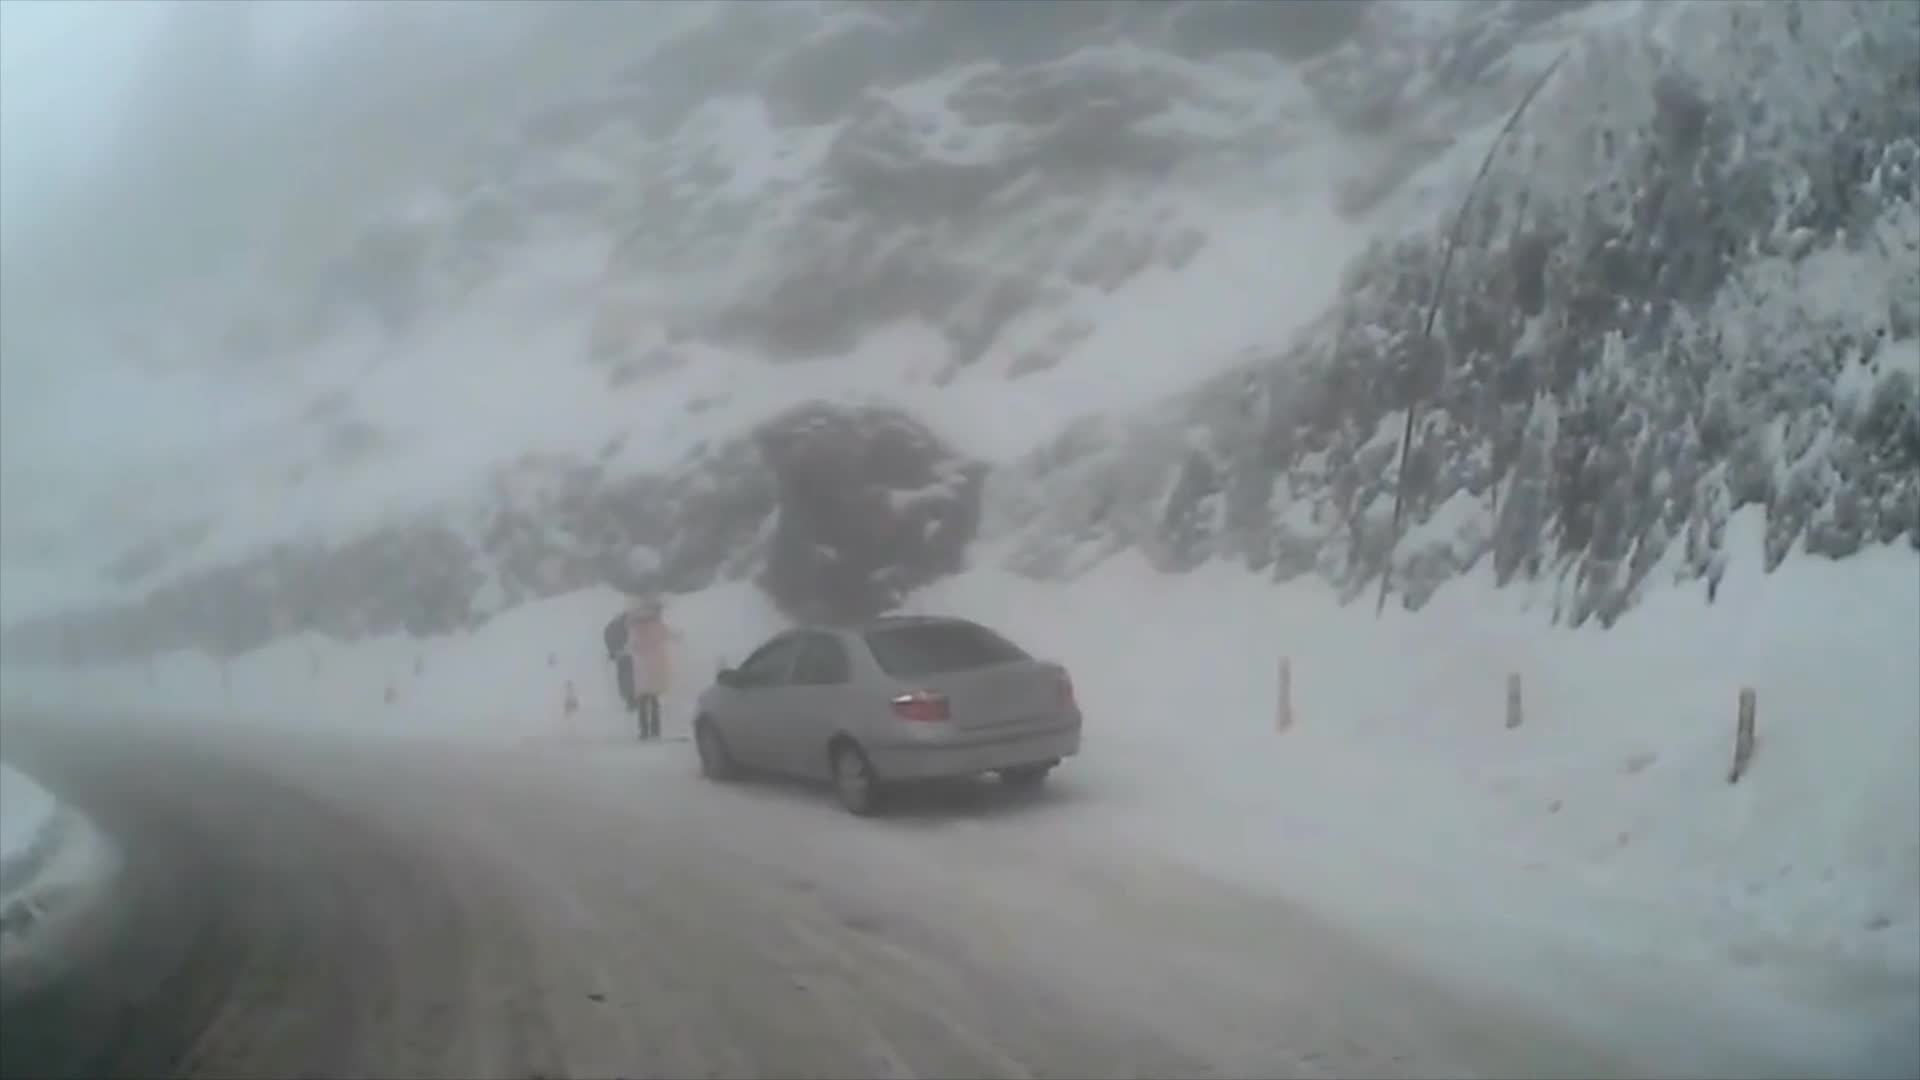pedestrian: (607, 595, 687, 746)
vehicle: (691, 618, 1084, 822)
